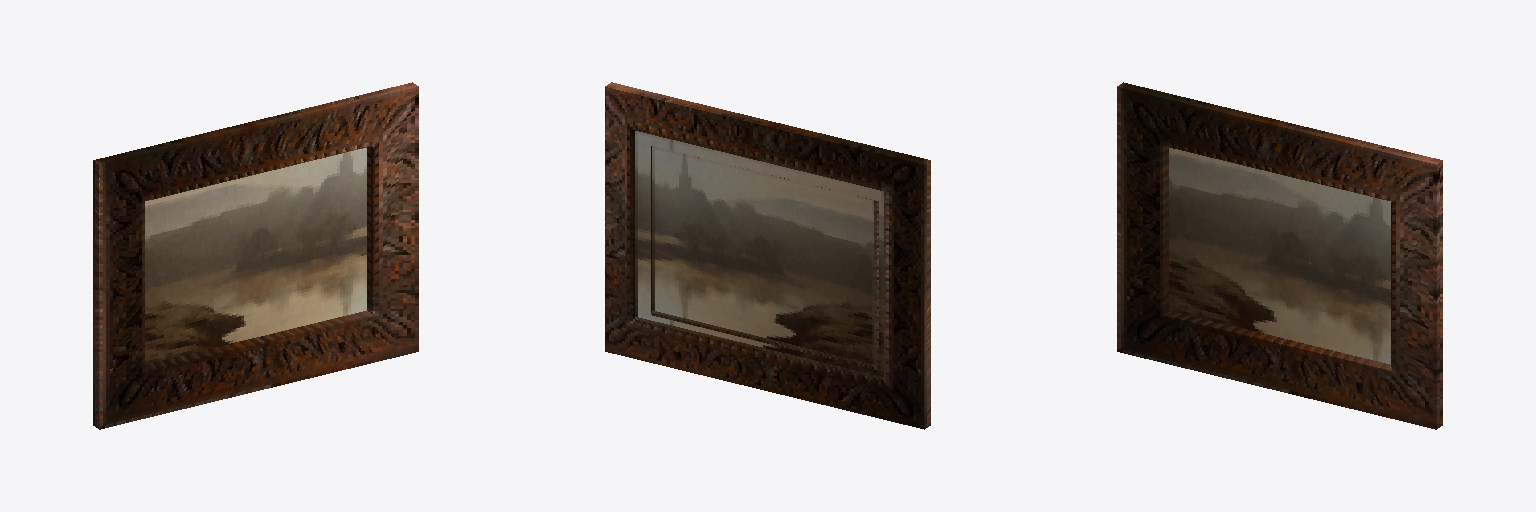
The picture shows the model from 3 angles: view 1: azimuth 30°, elevation 25°; view 2: azimuth 150°, elevation 25°; view 3: azimuth 330°, elevation 25°; orthographic projection.
Visible parts, largest first — view 1: wallpicture3; view 2: wallpicture3; view 3: wallpicture3.
Part boxes in pixels (left/top/right/bottom): wallpicture3: left=93, top=82, right=418, bottom=429; wallpicture3: left=605, top=82, right=930, bottom=429; wallpicture3: left=1117, top=82, right=1442, bottom=429.
Bounding box in the file's own units: 1.05 × 0.8329 × 0.0363.
Materials: 1 (1 with a texture image).